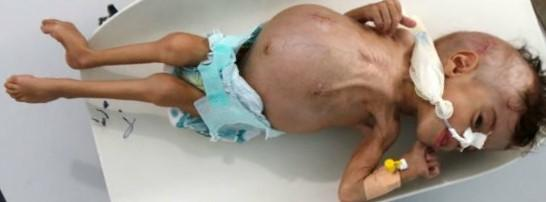Stunting: (415, 12, 530, 185)
